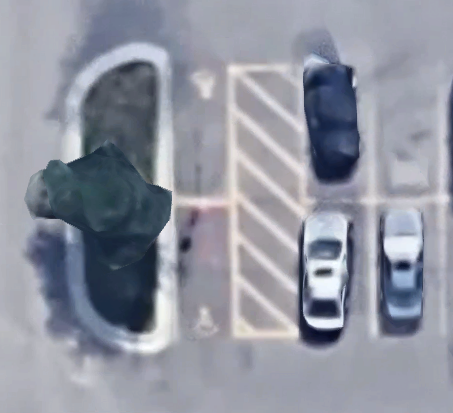Occupied: (301, 63, 373, 200), (304, 200, 375, 336), (373, 201, 442, 335)
Vacant: (163, 59, 234, 203), (164, 205, 234, 338), (374, 66, 442, 201)
